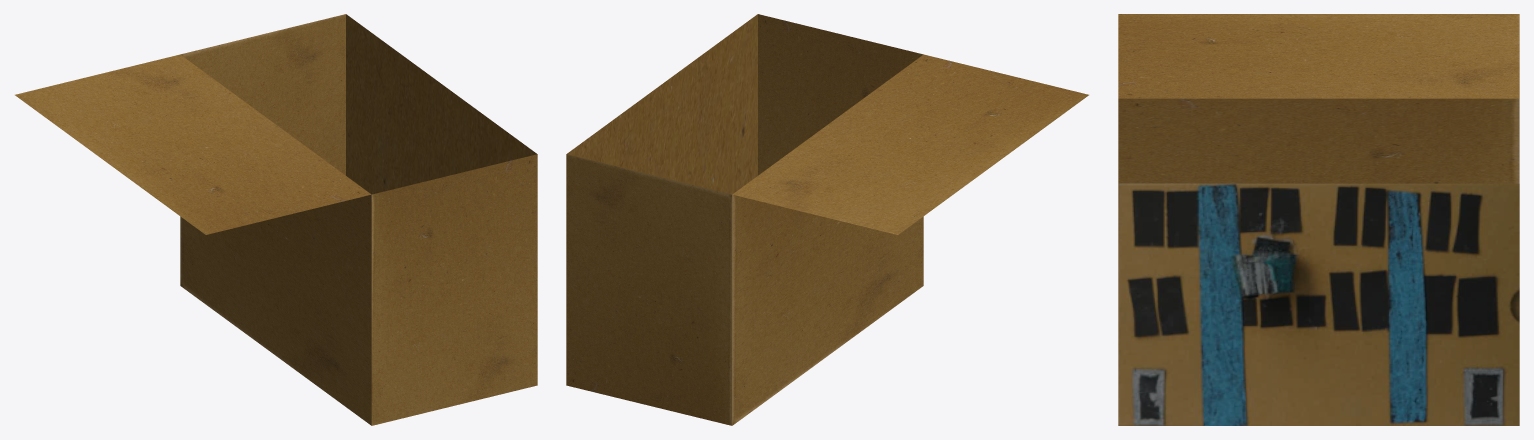
3 renders of one model, left to right at view 1: azimuth 30°, elevation 25°; view 2: azimuth 150°, elevation 25°; view 3: azimuth 270°, elevation 25°, orthographic. The views are drawn at different scales.
Parts seen in each view (by area): view 1: Cube, Cube.002, Cube.003; view 2: Cube, Cube.002, Cube.003; view 3: Cube, Cube.003, Cube.002.
Part boxes in pixels (left/top/right/bottom): Cube: left=180, top=154, right=537, bottom=425; Cube.002: left=15, top=54, right=371, bottom=234; Cube.003: left=180, top=14, right=537, bottom=194; Cube: left=566, top=154, right=923, bottom=425; Cube.002: left=732, top=54, right=1088, bottom=234; Cube.003: left=566, top=14, right=923, bottom=194; Cube: left=1118, top=183, right=1519, bottom=425; Cube.003: left=1118, top=98, right=1519, bottom=183; Cube.002: left=1118, top=14, right=1519, bottom=98.
Size of the model in its own units: 15 by 10 by 15.
Materials: 1 (1 with a texture image).
